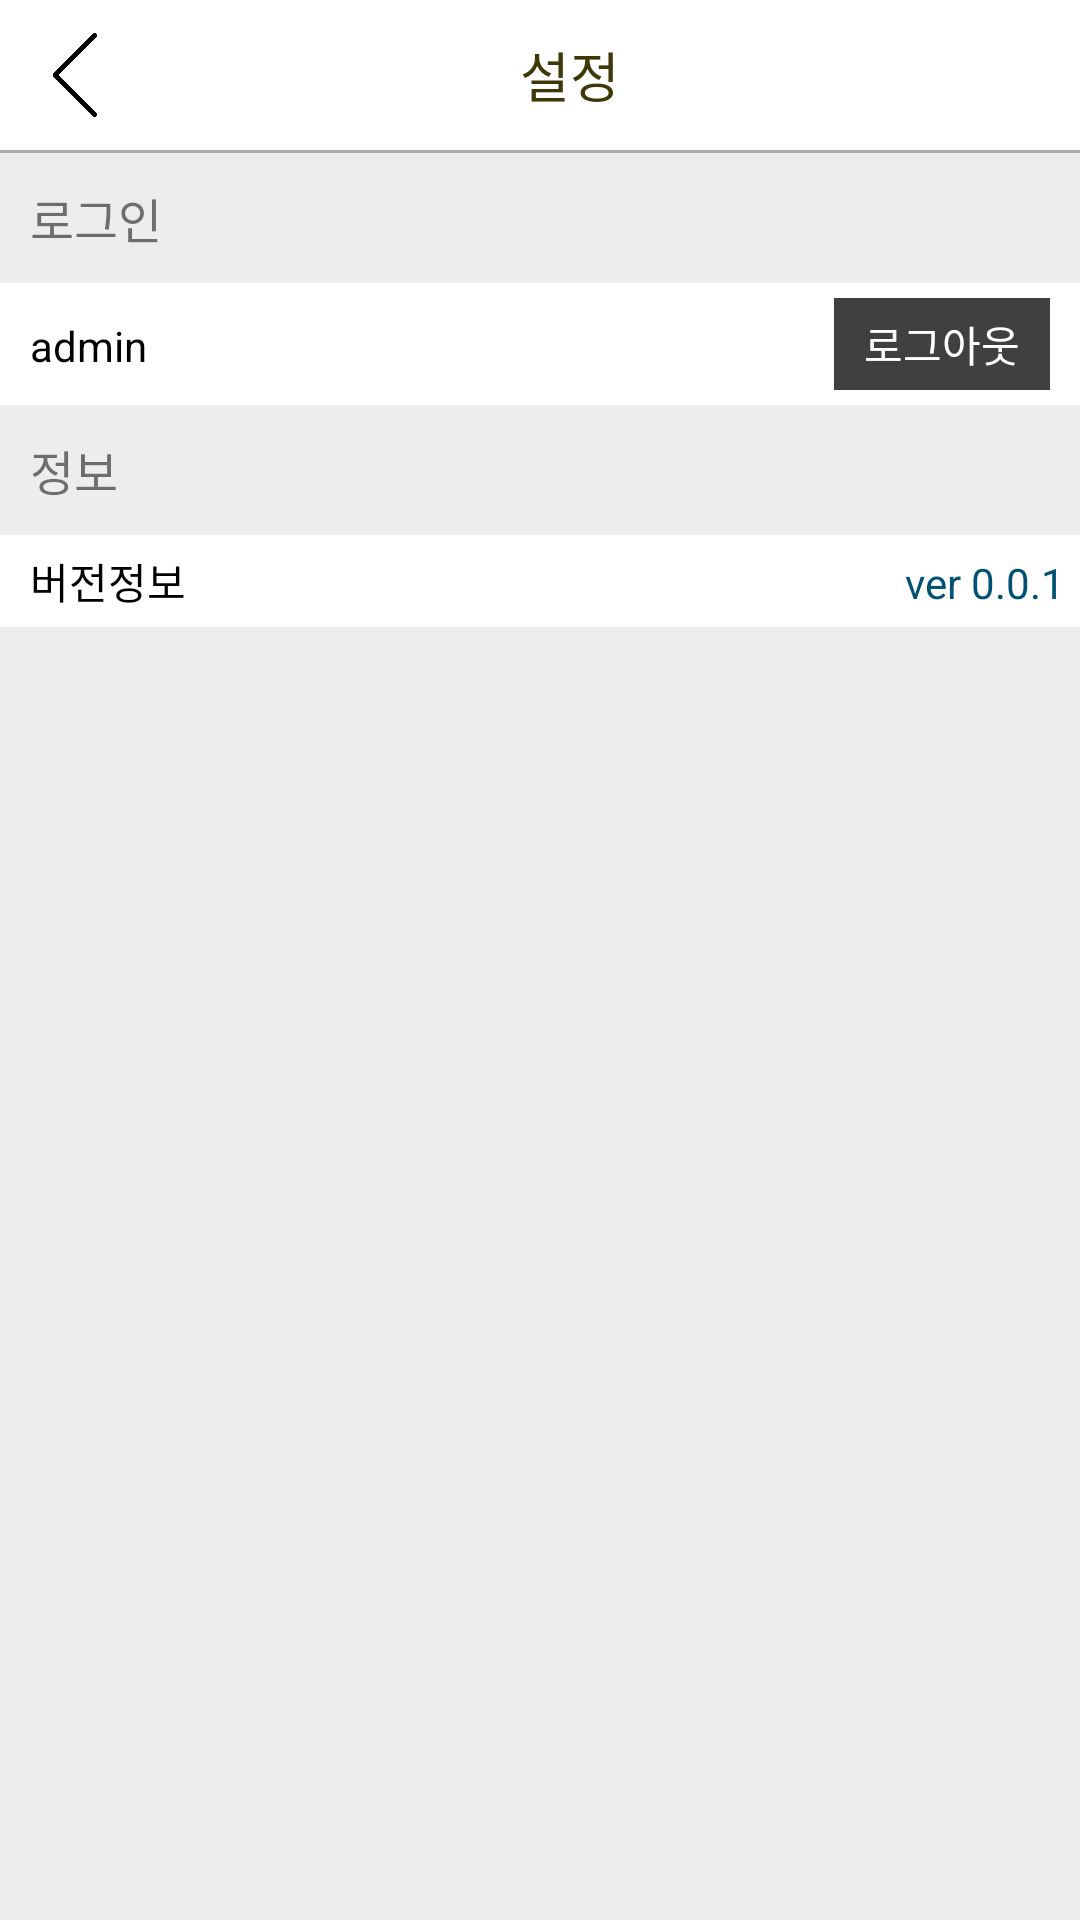

Icon click points for this 1080×1920 phone screenshot, format point (x, y):
back: point (75, 75)
